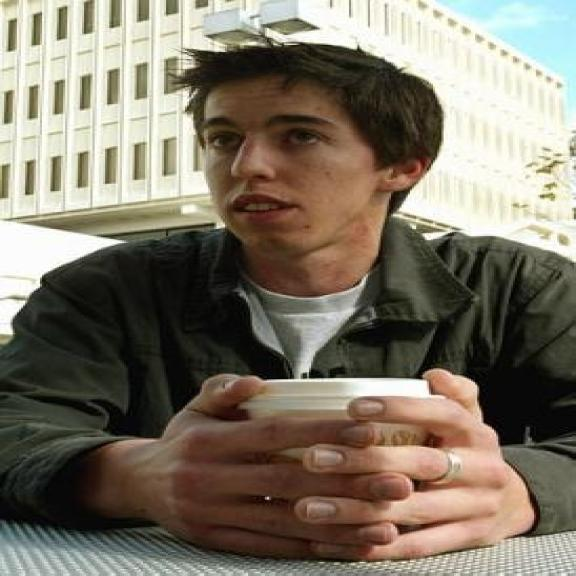face: (193, 64, 434, 258)
